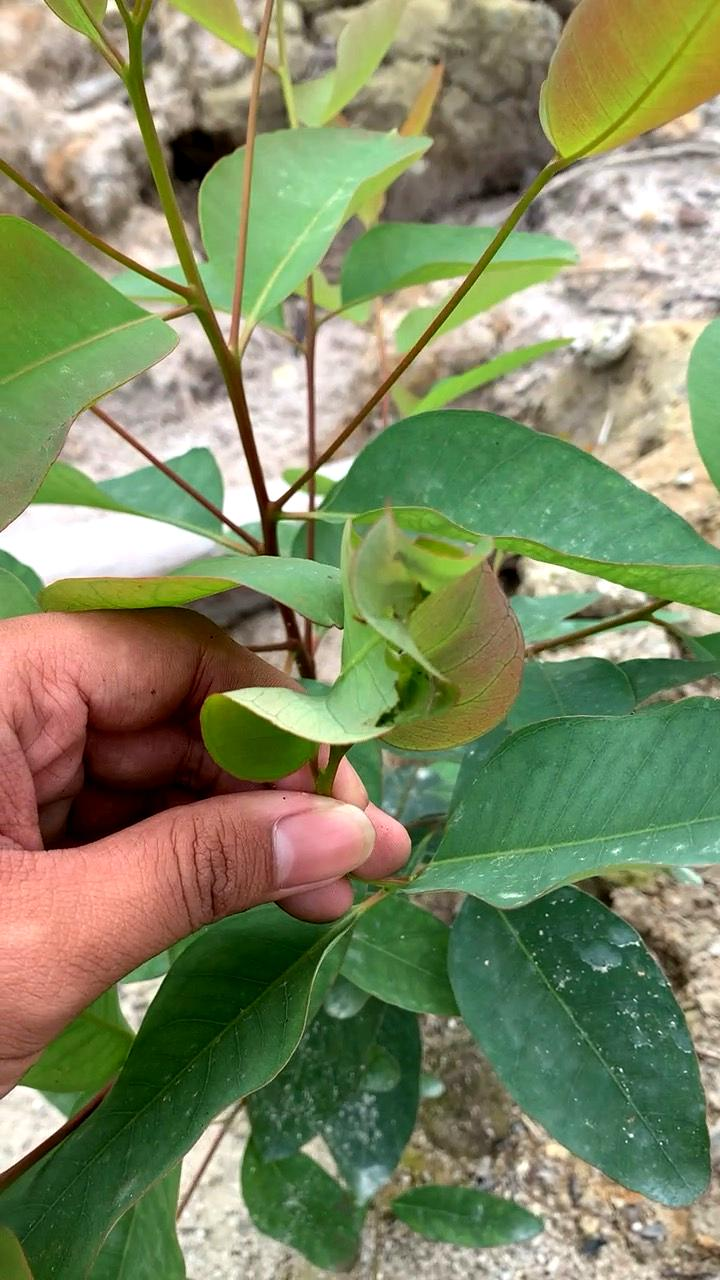Leaf Roller - Leaf: (201, 498, 553, 930)
